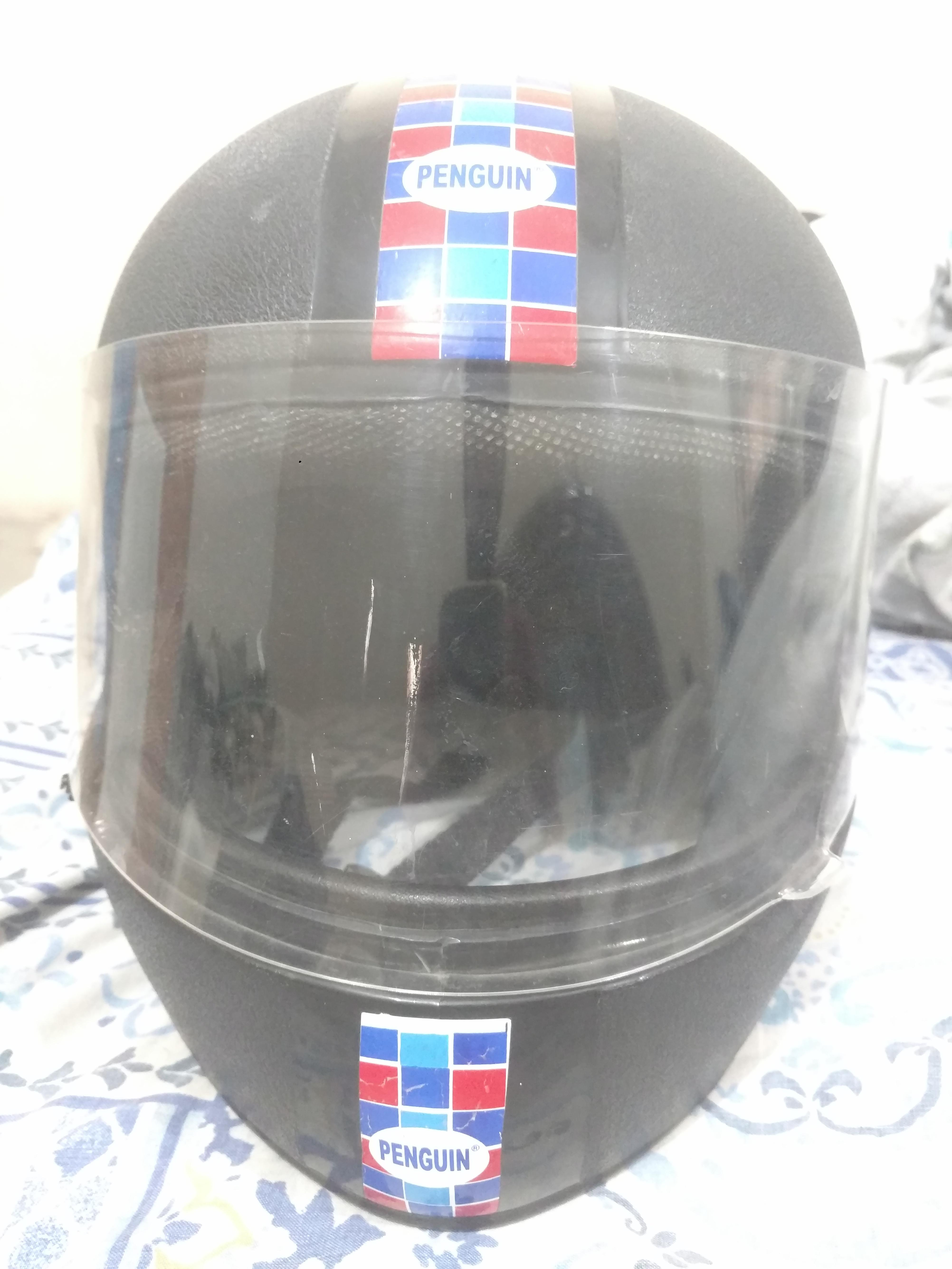helmet: (52, 55, 903, 1228)
